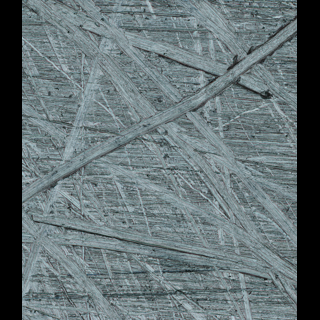d: (22, 2, 296, 317)
